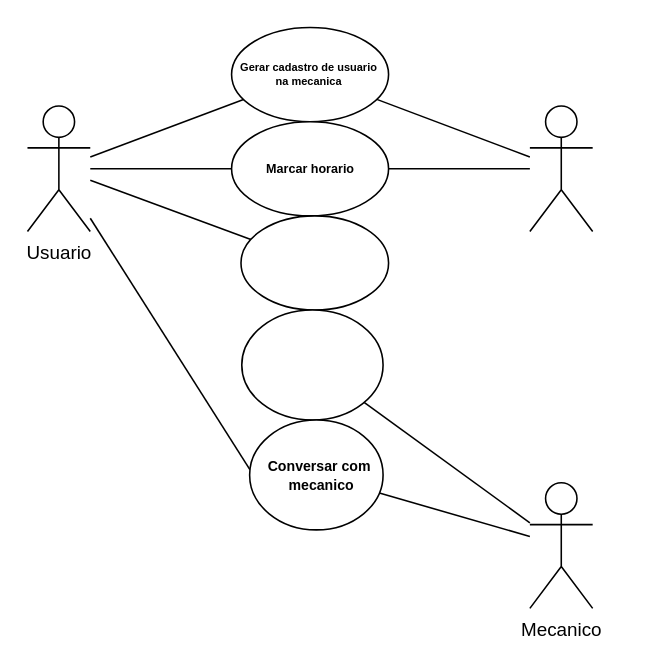
Some shapes in this 647 by 669 pixel diagram are drawn without their labels. Each missing label, with the centre of its shape:
"Administrador" goes at [560,168].
"Gerar relatorio para cliente" goes at [311,364].
"Pagar serviço" goes at [314,262].
